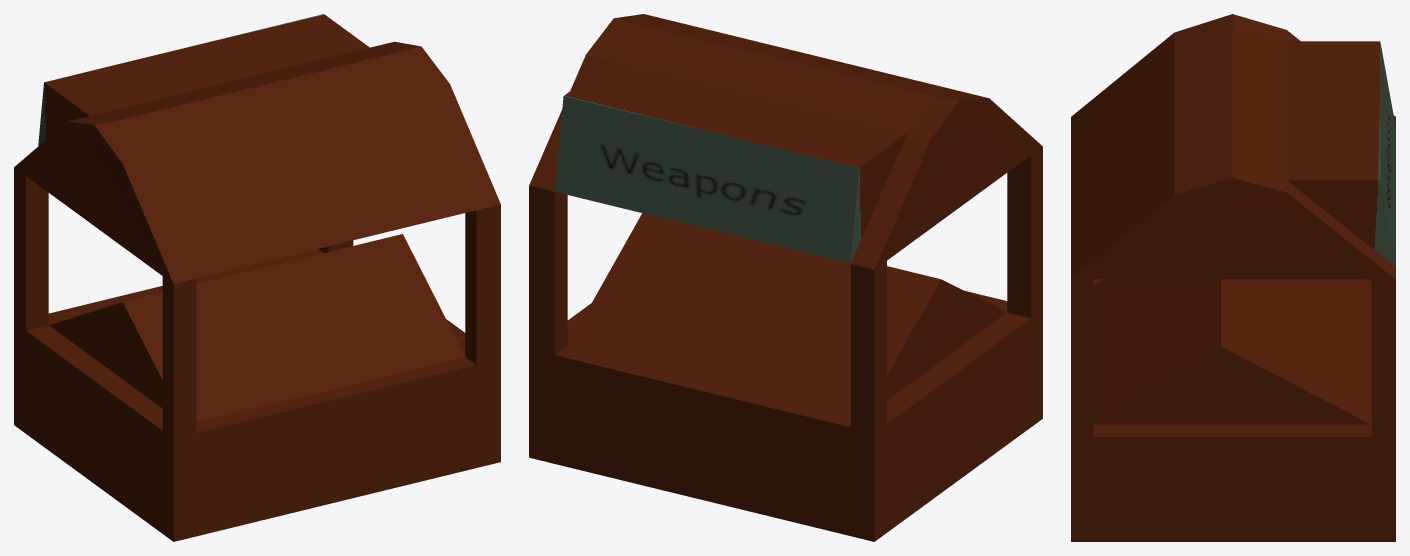
The model's file is marketPlaceStall.fbx.
3 views of the same model, side by side, from view 1: azimuth 30°, elevation 25°; view 2: azimuth 150°, elevation 25°; view 3: azimuth 270°, elevation 25° (orthographic). The views are drawn at different scales.
Parts seen in each view (by area): view 1: Cube; view 2: Cube; view 3: Cube.
Part boxes in pixels (x1,y1,x2,y2): Cube: [14, 14, 500, 541]; Cube: [529, 14, 1042, 541]; Cube: [1071, 14, 1395, 541].
Bounding box in the file's own units: 666 × 696 × 561.
